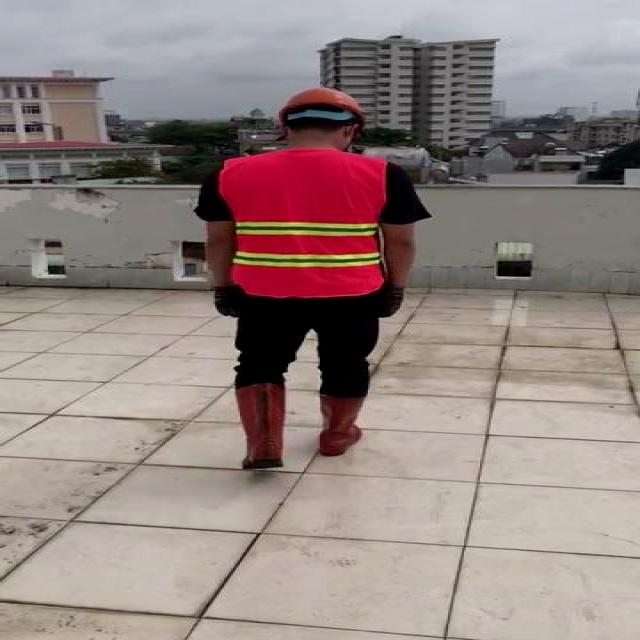boots: (233, 382, 286, 469), (313, 393, 368, 456)
hand_glove: (377, 285, 407, 319), (213, 286, 240, 319)
head_helmet: (274, 85, 370, 126)
person: (193, 82, 429, 478)
vest: (220, 151, 388, 294)
